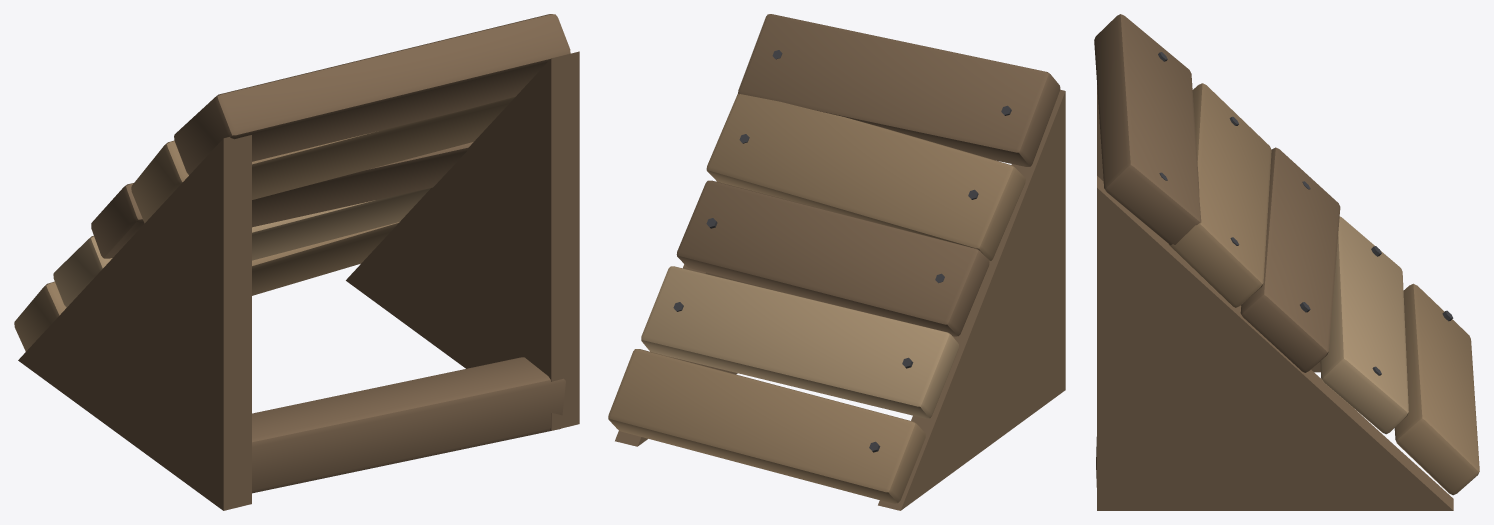
The model's file is wood_wedge.glb.
3 renders of one model, left to right at view 1: azimuth 30°, elevation 25°; view 2: azimuth 150°, elevation 25°; view 3: azimuth 270°, elevation 25°, orthographic. The views are drawn at different scales.
Parts seen in each view (by area): view 1: Part; view 2: Part; view 3: Part.
Part boxes in pixels (x1=…): Part: x1=14, y1=14, x2=579, y2=510; Part: x1=608, y1=14, x2=1065, y2=510; Part: x1=1094, y1=14, x2=1479, y2=510.
Bounding box in the file's own units: 0.5 × 0.5458 × 0.5405.
